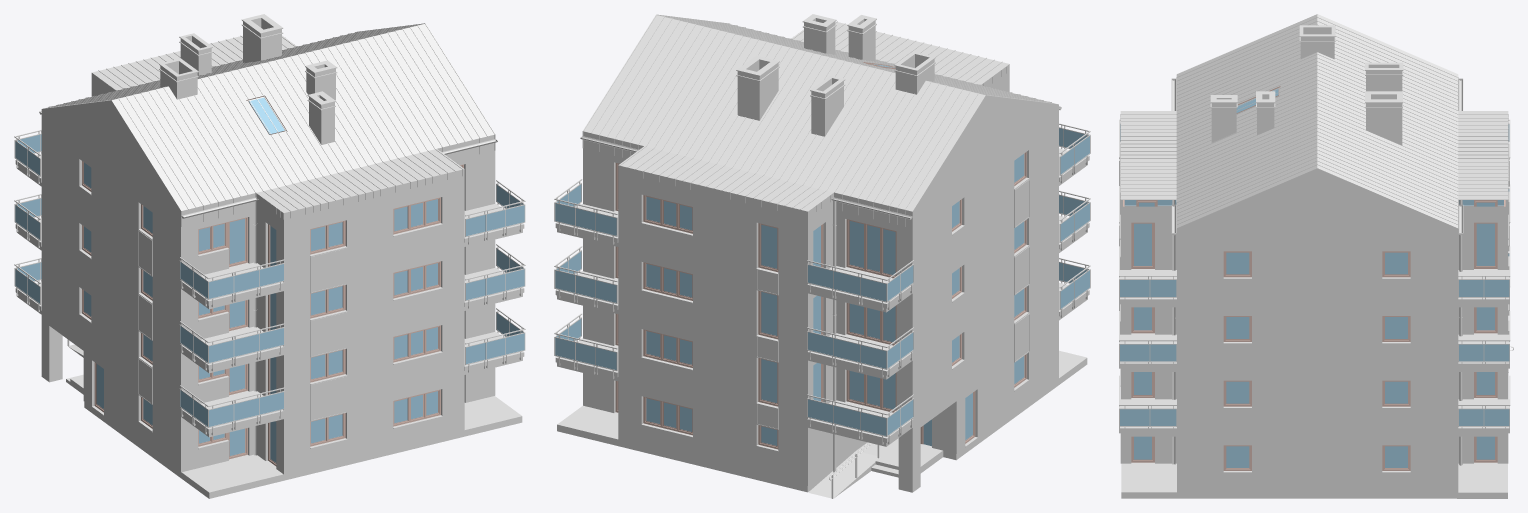
Rendered from building_04.glb.
3 views of the same model, side by side, from view 1: azimuth 30°, elevation 25°; view 2: azimuth 150°, elevation 25°; view 3: azimuth 270°, elevation 25° (orthographic). The views are drawn at different scales.
Visible parts, largest first — view 1: building_walls, roof, foundation_wall, window_005, barrels, chimney, boards_001, balcony, terrace, metal_cover, window_roof, gutters_003; view 2: building_walls, roof, foundation_wall, window_005, barrels, chimney, balcony, metal_cover, eneter_floor, terrace, boards_001, boards (+2 smaller); view 3: building_walls, roof, foundation_wall, window_005, barrels, chimney, balcony, terrace, metal_cover, gutters_002, gutters_003.
Part boxes in pixels (box(x1,y1,x2,y2)): building_walls: box(41, 79, 495, 410); roof: box(41, 23, 495, 226); foundation_wall: box(41, 306, 495, 480); window_005: box(79, 161, 463, 466); barrels: box(14, 130, 525, 435); chimney: box(159, 14, 337, 144); boards_001: box(138, 230, 347, 421); balcony: box(17, 154, 522, 437); terrace: box(181, 396, 522, 498); metal_cover: box(15, 153, 524, 433); window_roof: box(246, 95, 287, 134); gutters_003: box(39, 111, 497, 218); building_walls: box(583, 71, 1058, 492); roof: box(582, 14, 1058, 228); foundation_wall: box(583, 312, 1058, 492); window_005: box(615, 152, 1029, 451); barrels: box(554, 123, 1090, 444); chimney: box(736, 14, 935, 136); balcony: box(557, 149, 1087, 446); metal_cover: box(555, 148, 1089, 442); eneter_floor: box(808, 439, 943, 498); terrace: box(557, 350, 1087, 446); boards_001: box(1014, 179, 1029, 362); boards: box(756, 268, 778, 429); building_walls: box(1120, 177, 1508, 427); roof: box(1120, 14, 1508, 244); foundation_wall: box(1120, 428, 1508, 498); window_005: box(1119, 200, 1508, 473); barrels: box(1119, 119, 1510, 435); chimney: box(1210, 25, 1403, 145); balcony: box(1120, 269, 1508, 436); terrace: box(1121, 462, 1507, 498); metal_cover: box(1120, 144, 1509, 432); gutters_002: box(1172, 200, 1462, 465); gutters_003: box(1171, 78, 1463, 235).
Size of the model in its own units: 0.1555 by 0.1611 by 0.1663.
